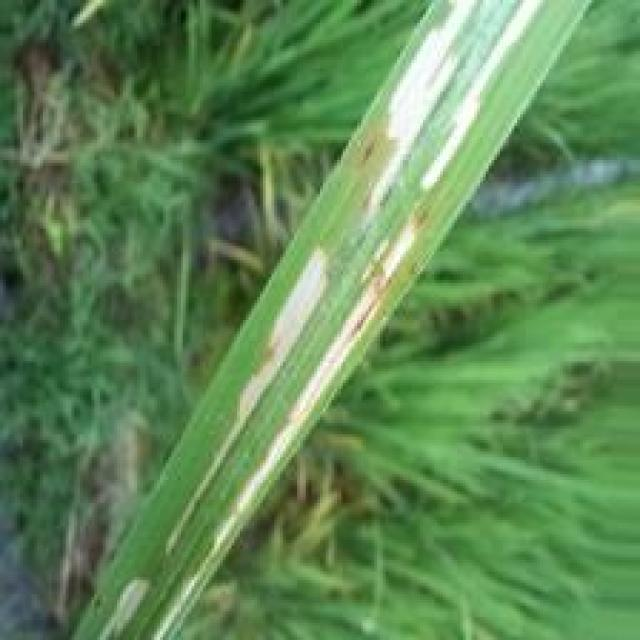Rice_Hispa: (198, 219, 424, 572), (417, 0, 546, 195), (372, 0, 482, 206), (233, 247, 333, 426)
